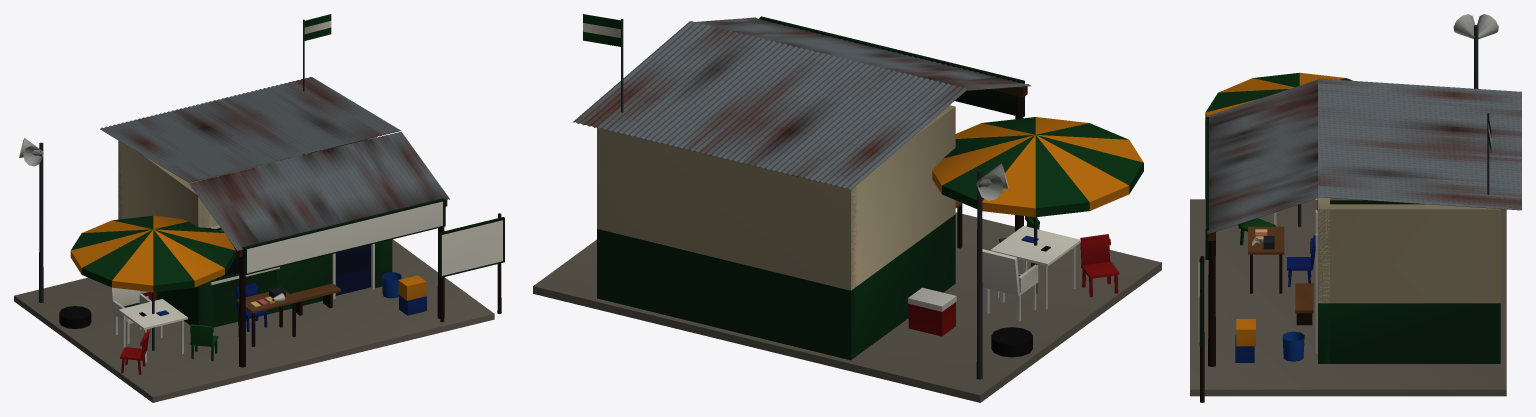
Rendered from pk_office.glb.
3 renders of one model, left to right at view 1: azimuth 30°, elevation 25°; view 2: azimuth 150°, elevation 25°; view 3: azimuth 270°, elevation 25°, orthographic. The views are drawn at different scales.
Parts seen in each view (by area): view 1: pk_office; view 2: pk_office; view 3: pk_office.
Boxes of the visible parts, box(x1,y1,x2,y2) form: pk_office: box(14, 14, 504, 402); pk_office: box(533, 14, 1161, 402); pk_office: box(1190, 14, 1521, 402).
Size of the model in its own units: 8.21 by 4.52 by 5.45.
